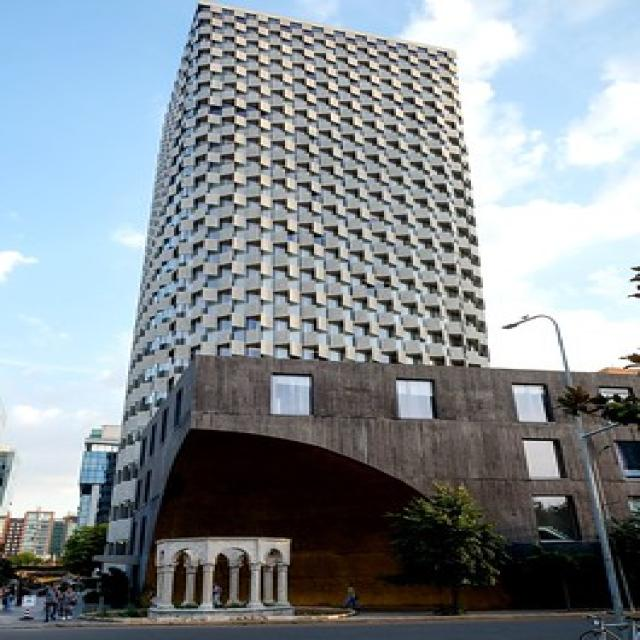building: (112, 3, 514, 611)
